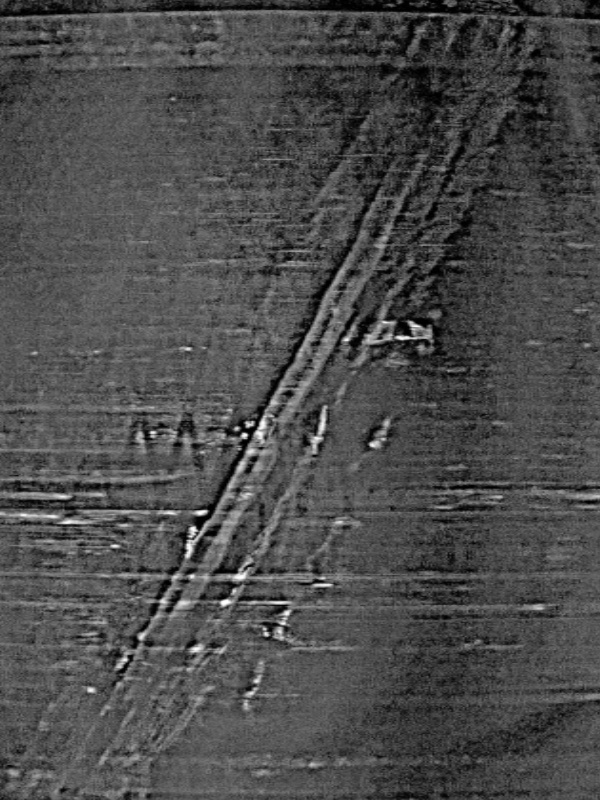splice_vulcanized: (10, 16, 529, 799)
